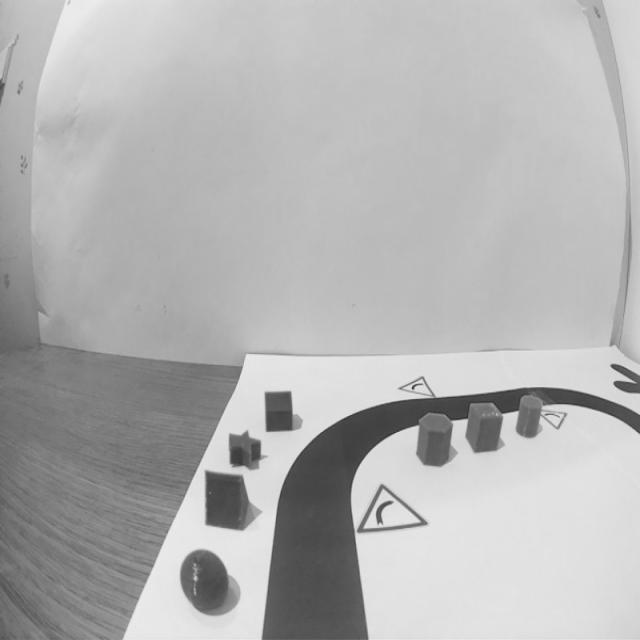ball: (178, 545, 232, 619)
cube: (464, 399, 506, 455)
cylinder: (514, 391, 546, 444)
hexagon: (414, 410, 454, 472)
home: (260, 386, 299, 437)
laneRightTurn: (268, 396, 394, 516)
lineStraight: (256, 497, 374, 640)
star: (224, 426, 265, 472)
triangle: (200, 466, 254, 535)
